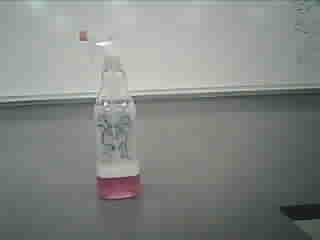hazard: (77, 29, 146, 205)
